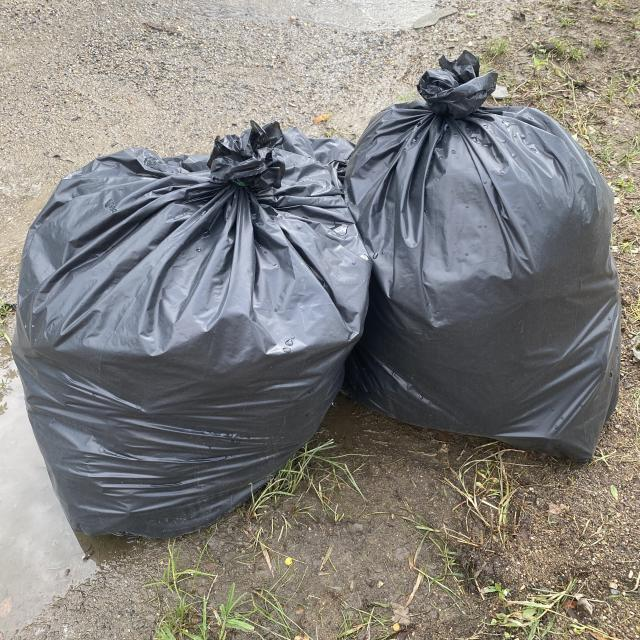Single-layer Plastic: (12, 122, 370, 538), (345, 52, 621, 462)
